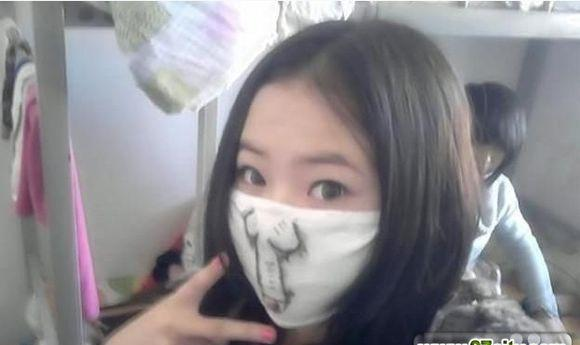OK: (227, 134, 415, 332)
